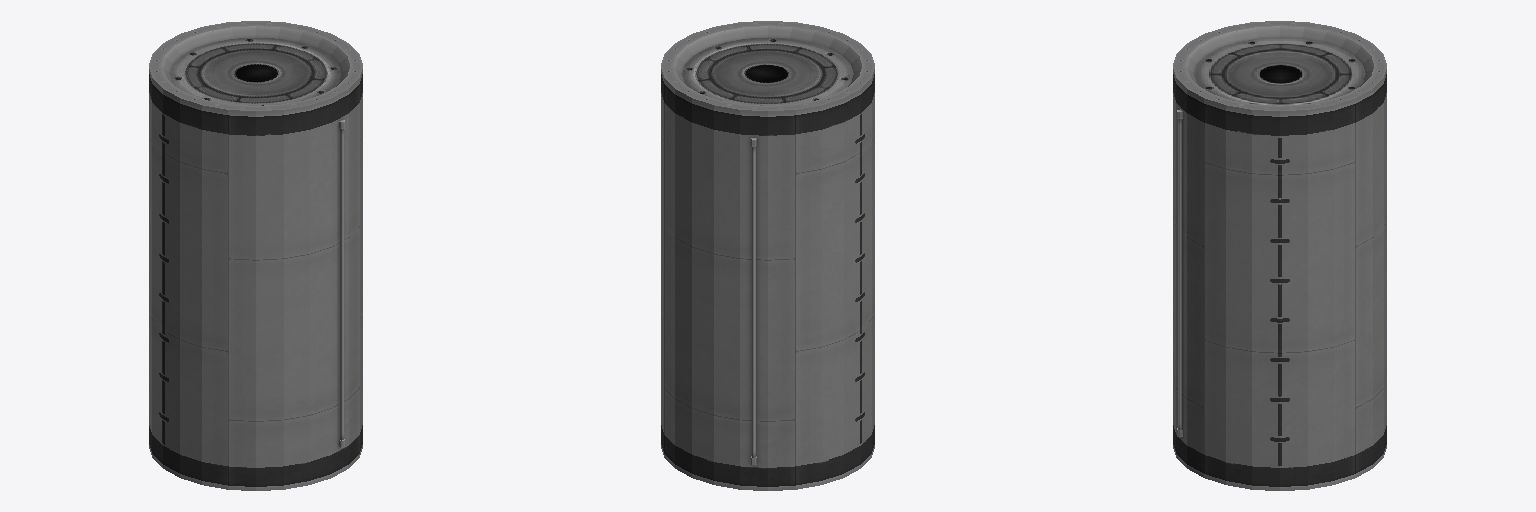
The picture shows the model from 3 angles: view 1: azimuth 30°, elevation 25°; view 2: azimuth 150°, elevation 25°; view 3: azimuth 270°, elevation 25°; orthographic projection.
Visible parts, largest first — view 1: Arrow_LFO_A; view 2: Arrow_LFO_A; view 3: Arrow_LFO_A.
Part boxes in pixels (left/top/right/bottom): Arrow_LFO_A: left=149, top=21, right=362, bottom=490; Arrow_LFO_A: left=661, top=21, right=874, bottom=490; Arrow_LFO_A: left=1173, top=21, right=1386, bottom=490.
Bounding box in the file's own units: 1.25 × 2.44 × 1.25.
1 materials, 1 textured.